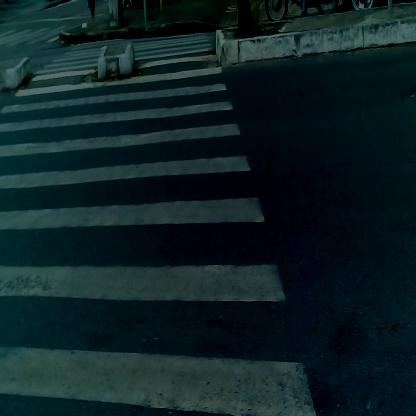crosswalk: (15, 45, 297, 416)
sidewalk: (60, 8, 229, 60)
